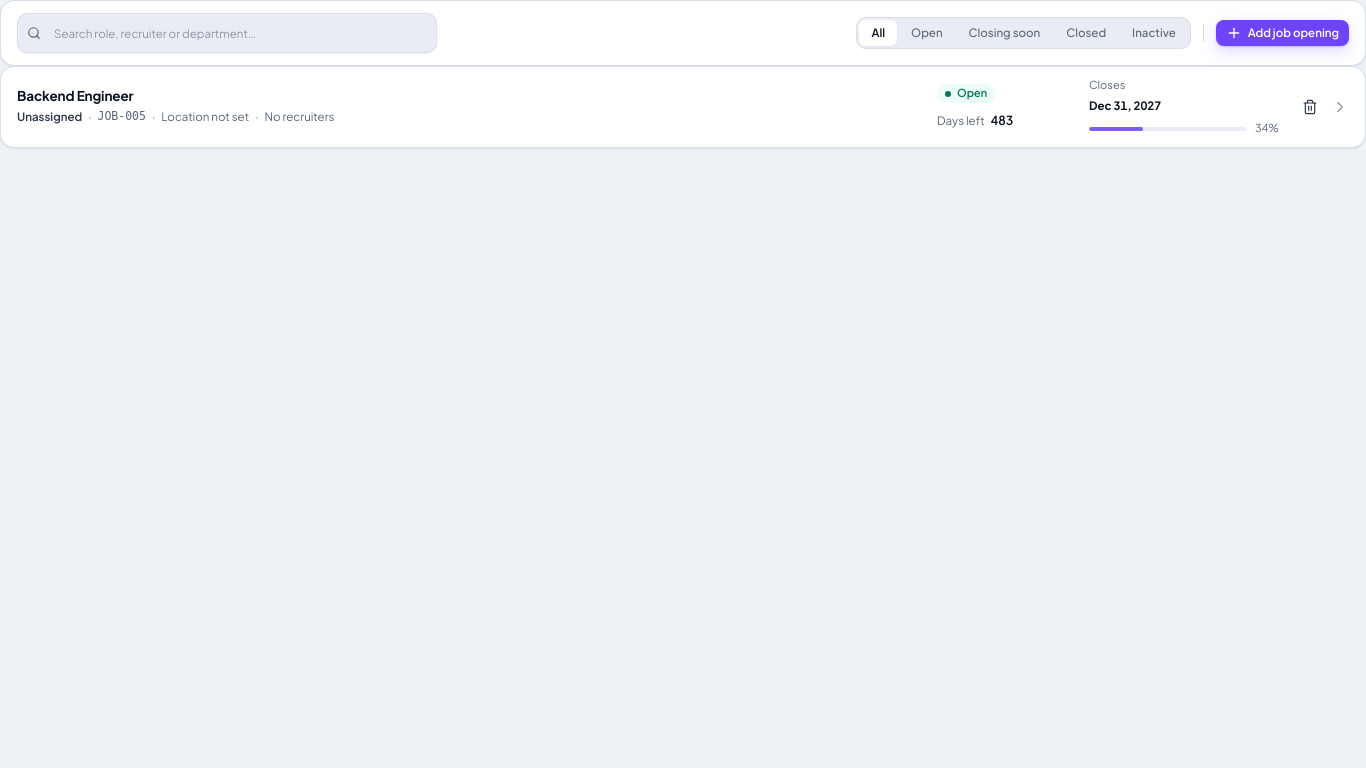
Test: JobOpeningsTab recruiter picker › offers only the recruiter-eligible users the endpoint returns
This screenshot has width=1366, height=768.
Click the button with aria-label "Edit Backend Engineer". click: (75, 96)
box: [0,66,1365,148]
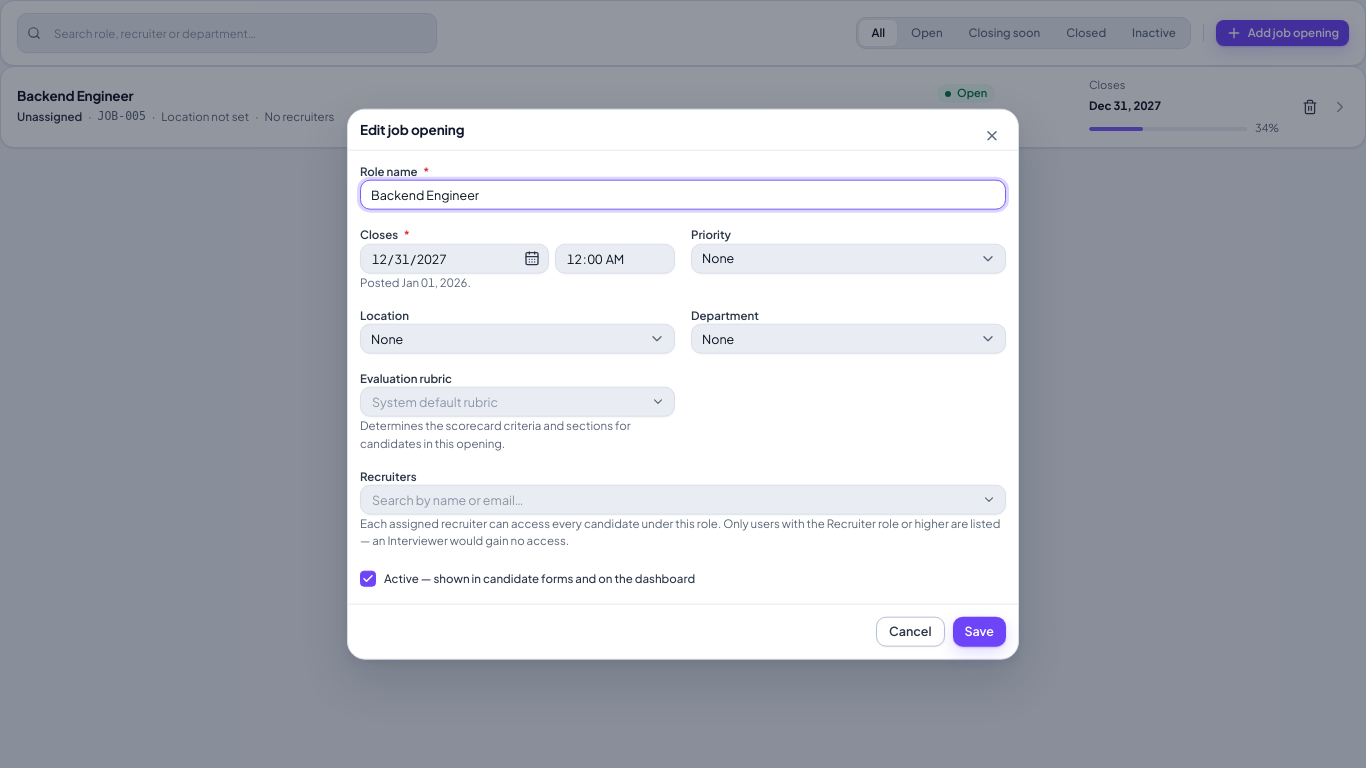
Result: the dropdown with placeholder "Search by name or email…" is shown
Click the dropdown with placeholder "Search by name or email…". click: (683, 500)
box: [360,485,1006,515]
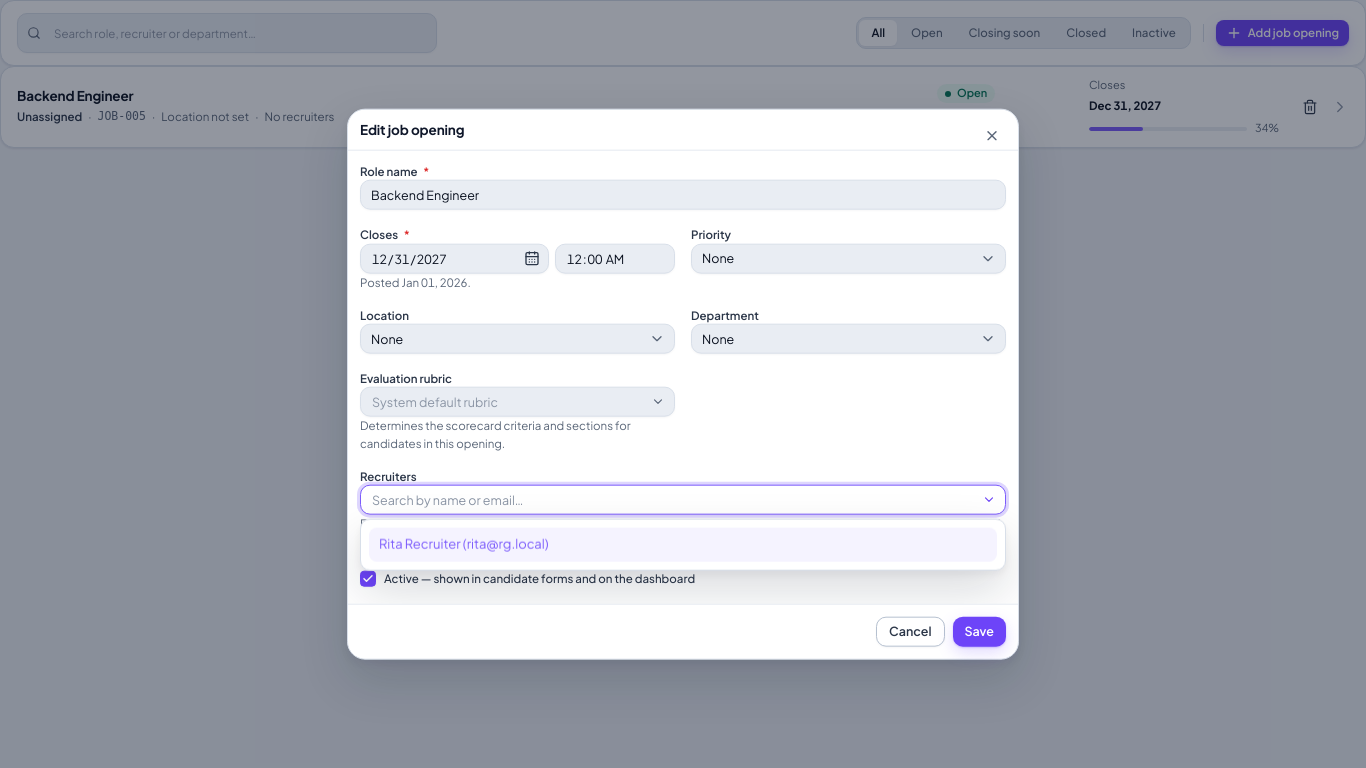
Result: the text "Rita Recruiter (rita@rg.local)" is shown at [379,535,549,554]
